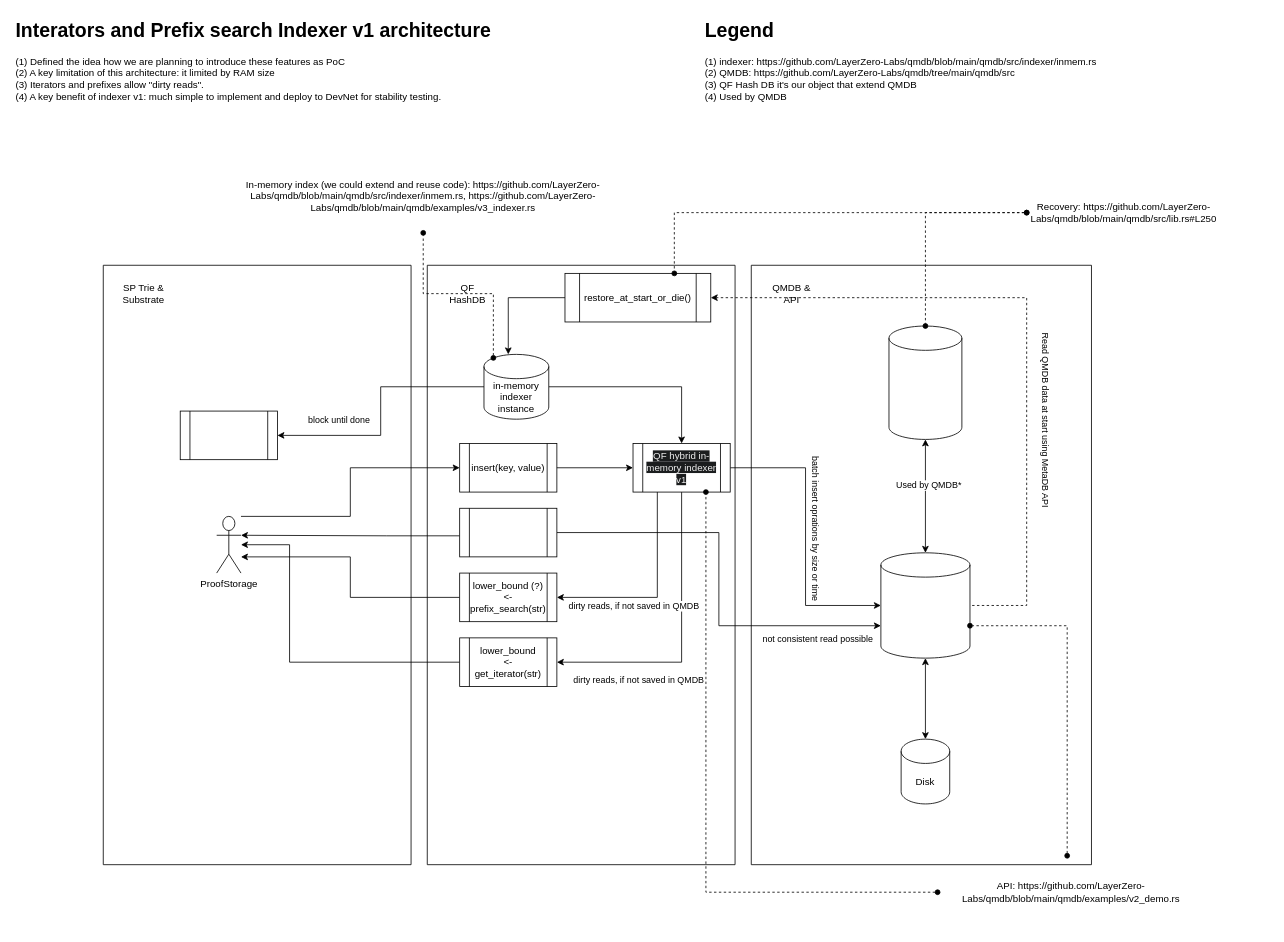
Some shapes in this 1284 by 942 pixel diagram are drawn without their labels. The centre of each missing label's shape, as x and y in pixels:
"at_process_start" goes at pixel 228 435.
"in-memory indexer" goes at pixel 925 382.
"QMDB" goes at pixel 925 605.
"value <- get(key)" goes at pixel 508 532.
